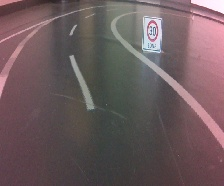zone 30 sign: (142, 15, 162, 53)
